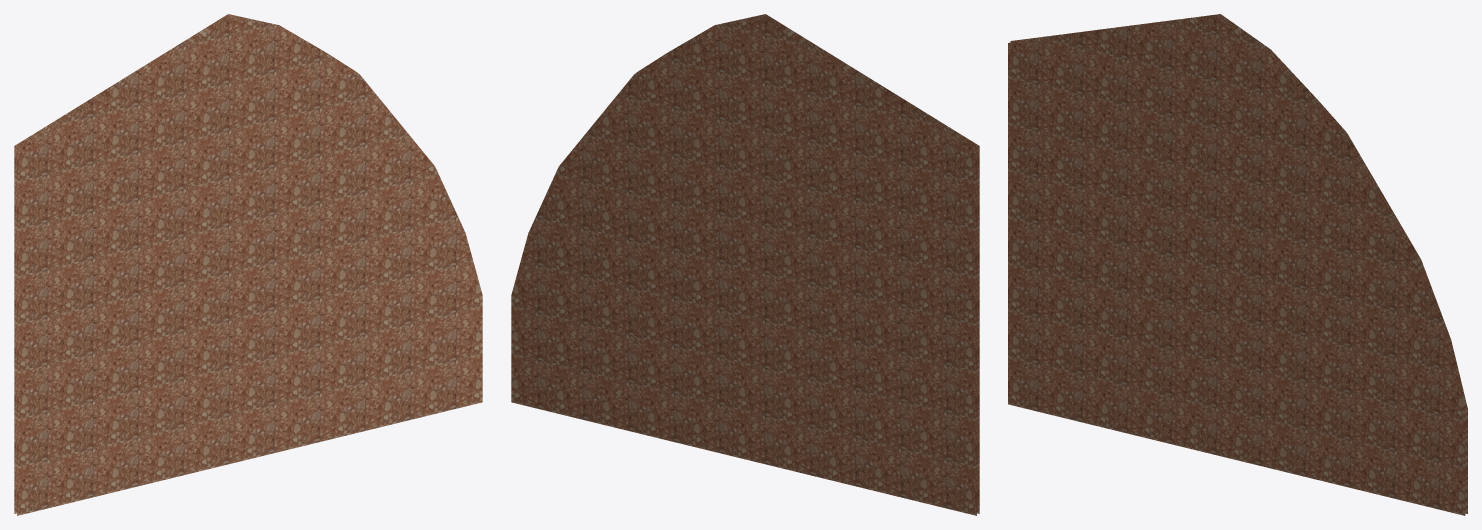
Rendered from floor_1.obj.
3 views of the same model, side by side, from view 1: azimuth 30°, elevation 25°; view 2: azimuth 150°, elevation 25°; view 3: azimuth 330°, elevation 25° (orthographic).
Parts seen in each view (by area): view 1: floor_1; view 2: floor_1; view 3: floor_1.
Boxes of the visible parts, left/top/right/bottom form: floor_1: left=14, top=14, right=482, bottom=515; floor_1: left=511, top=14, right=979, bottom=515; floor_1: left=1008, top=14, right=1467, bottom=515.
Bounding box in the file's own units: 10.26 × 9.43 × 0.1.
